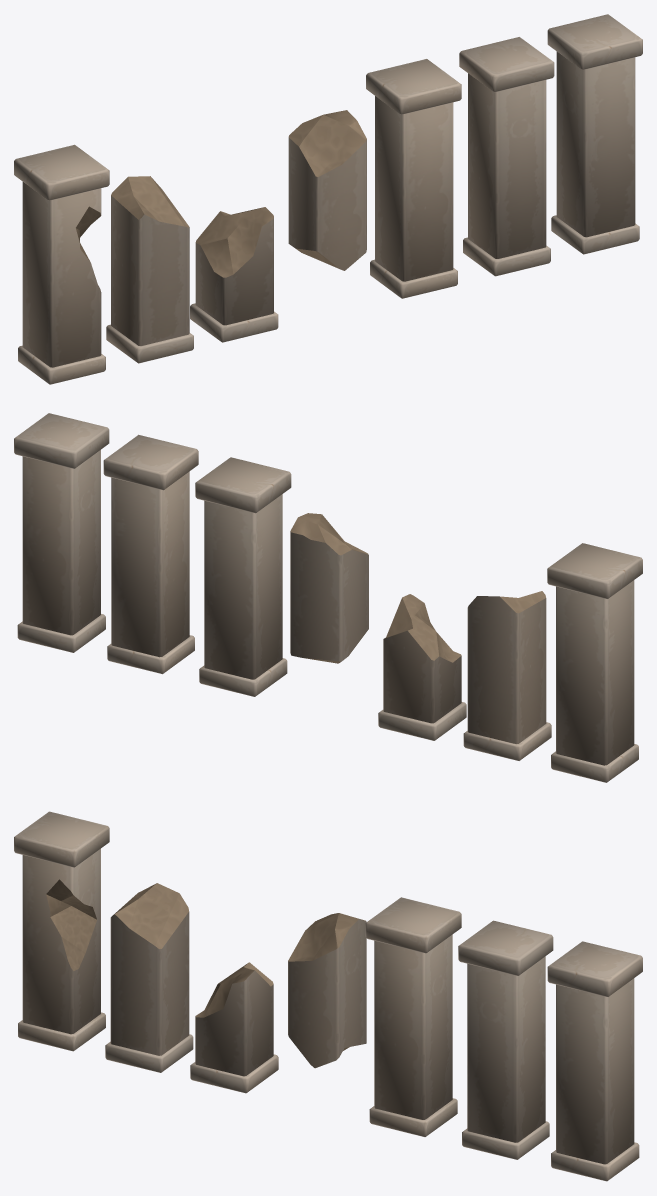
Rendered from SM_Pillars.fbx.
The picture shows the model from 3 angles, top to bottom: view 1: azimuth 30°, elevation 25°; view 2: azimuth 150°, elevation 25°; view 3: azimuth 330°, elevation 25°; orthographic projection.
Visible parts, largest first — view 1: PillarC, PillarA, PillarB, BrokenPillarA, BrokenPillarB, BrokenPillarD, BrokenPillarC; view 2: PillarA, PillarC, BrokenPillarA, PillarB, BrokenPillarB, BrokenPillarD, BrokenPillarC; view 3: PillarC, PillarA, BrokenPillarA, PillarB, BrokenPillarB, BrokenPillarD, BrokenPillarC.
Part boxes in pixels (<box>): PillarC: <box>547,14,642,254</box>; PillarA: <box>366,59,461,298</box>; PillarB: <box>459,37,554,276</box>; BrokenPillarA: <box>14,144,109,384</box>; BrokenPillarB: <box>106,176,193,363</box>; BrokenPillarD: <box>288,110,366,270</box>; BrokenPillarC: <box>190,207,278,342</box>; PillarA: <box>195,457,291,696</box>; PillarC: <box>14,413,109,652</box>; BrokenPillarA: <box>547,543,642,782</box>; PillarB: <box>103,434,198,674</box>; BrokenPillarB: <box>463,591,551,760</box>; BrokenPillarD: <box>290,513,368,663</box>; BrokenPillarC: <box>378,594,466,740</box>; PillarC: <box>547,941,642,1181</box>; PillarA: <box>365,897,461,1136</box>; BrokenPillarA: <box>14,811,109,1051</box>; PillarB: <box>458,920,553,1159</box>; BrokenPillarB: <box>105,883,193,1072</box>; BrokenPillarD: <box>288,913,366,1068</box>; BrokenPillarC: <box>190,962,278,1093</box>.
Size of the model in its own units: 2153 by 701 by 223.
